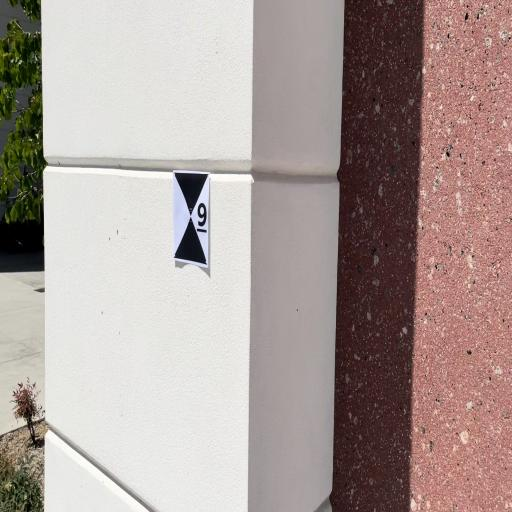target9: (173, 170, 210, 268)
